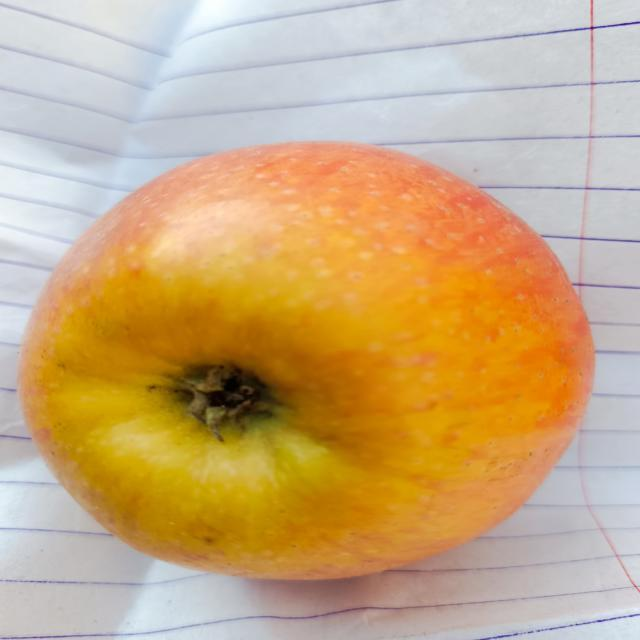Fresh Apple: (19, 137, 599, 587)
